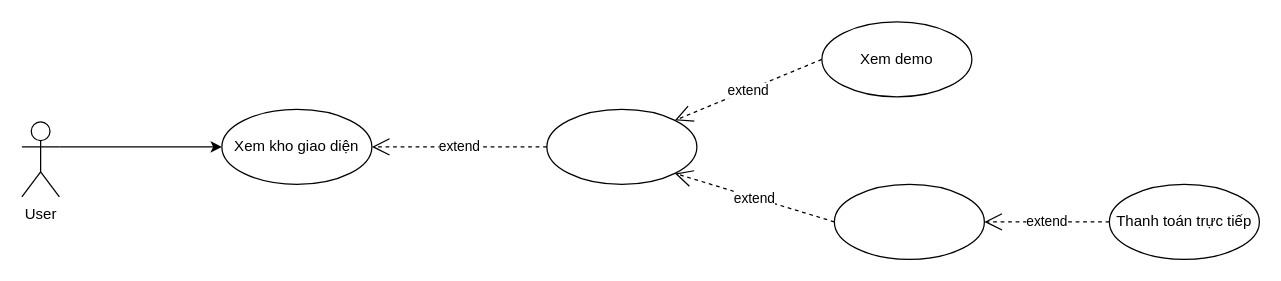
This 1281x281 diagram has some shape labels left out. The box of each missing label's shape, as (x1, y1, x2, y2) in pixels:
Xem chi tiết giao diện: (546, 108, 697, 184)
Đặt mua: (833, 183, 984, 259)
